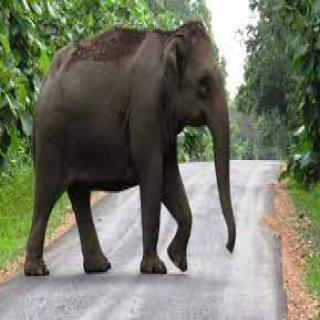Elephant: (22, 15, 243, 281)
